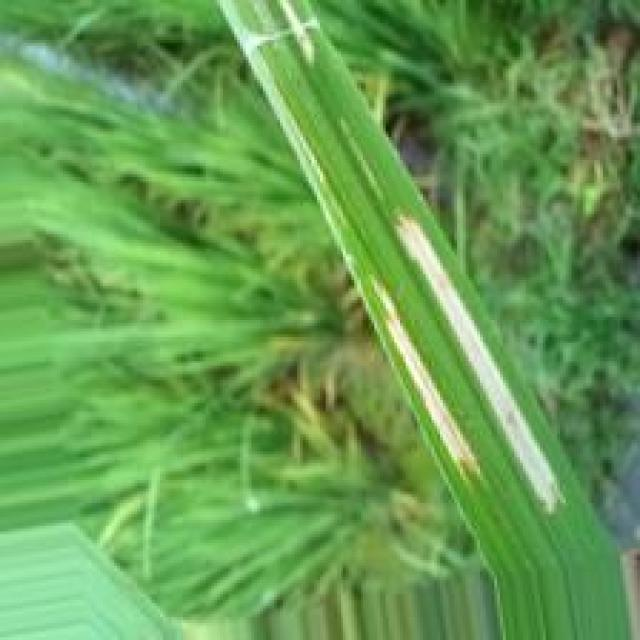Rice_Hispa: (398, 204, 567, 521), (220, 0, 334, 229), (372, 276, 488, 480)
